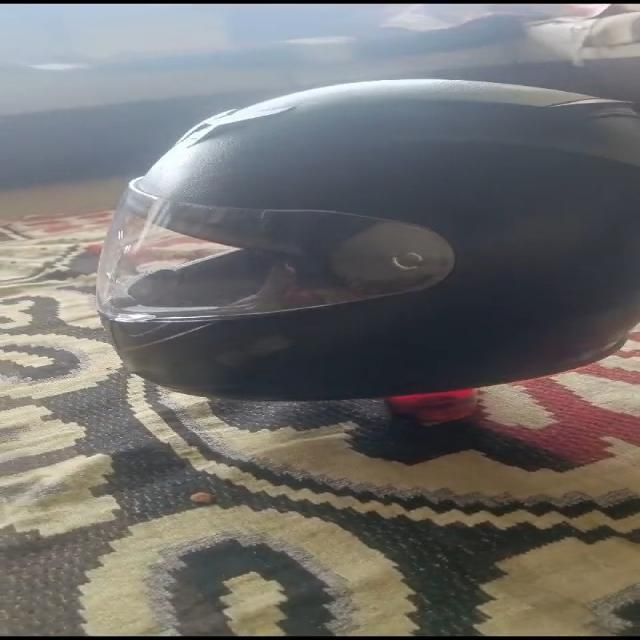Helmet: (96, 76, 640, 404)
